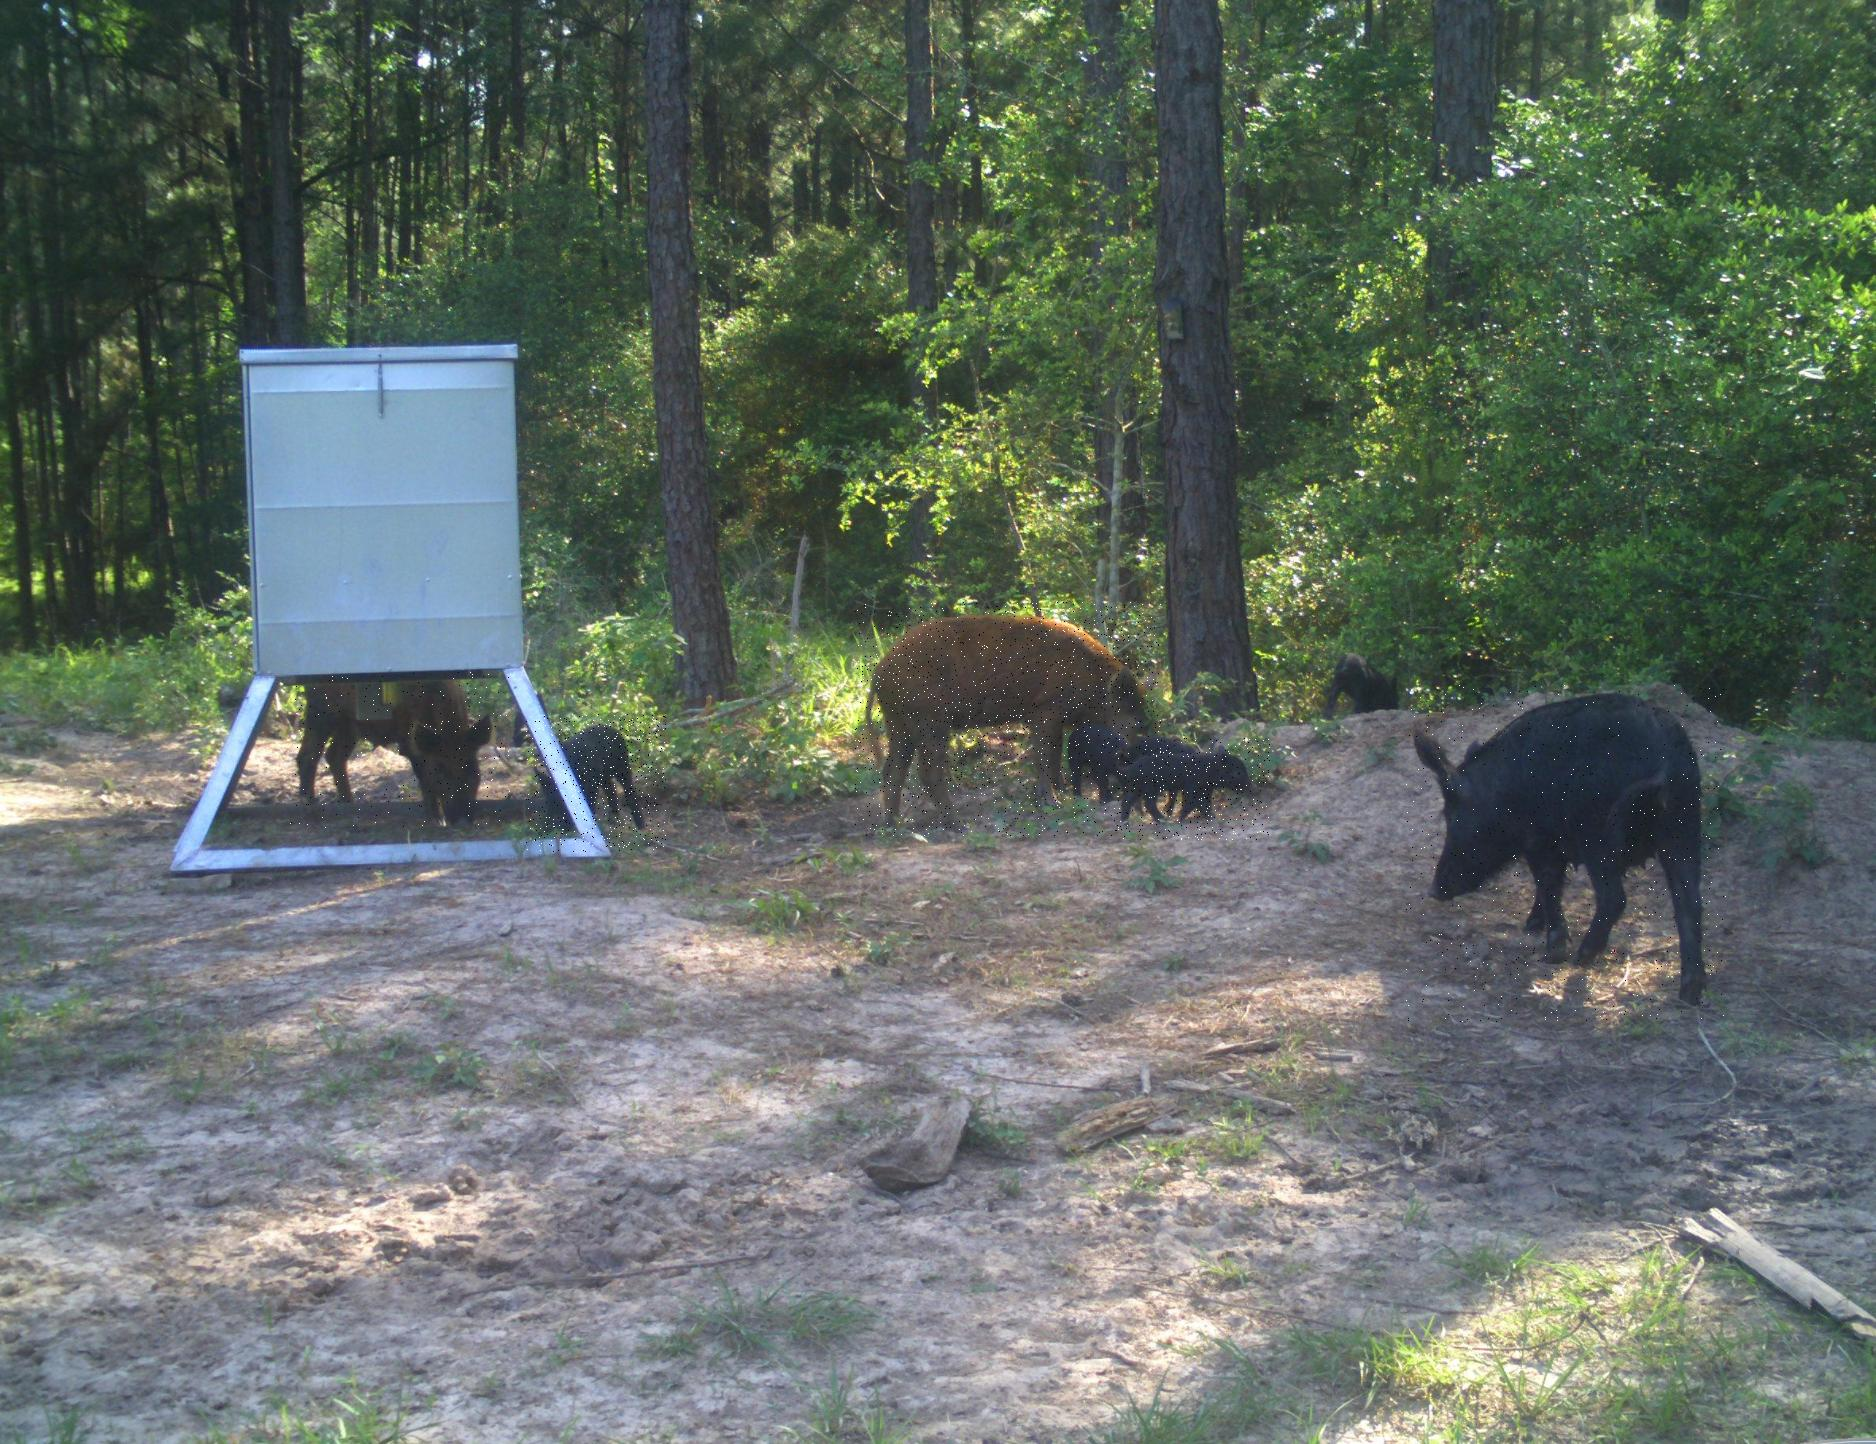Hog: (1406, 684, 1726, 1022), (855, 602, 1162, 836), (290, 672, 510, 828), (526, 714, 666, 852), (1116, 737, 1269, 840)
